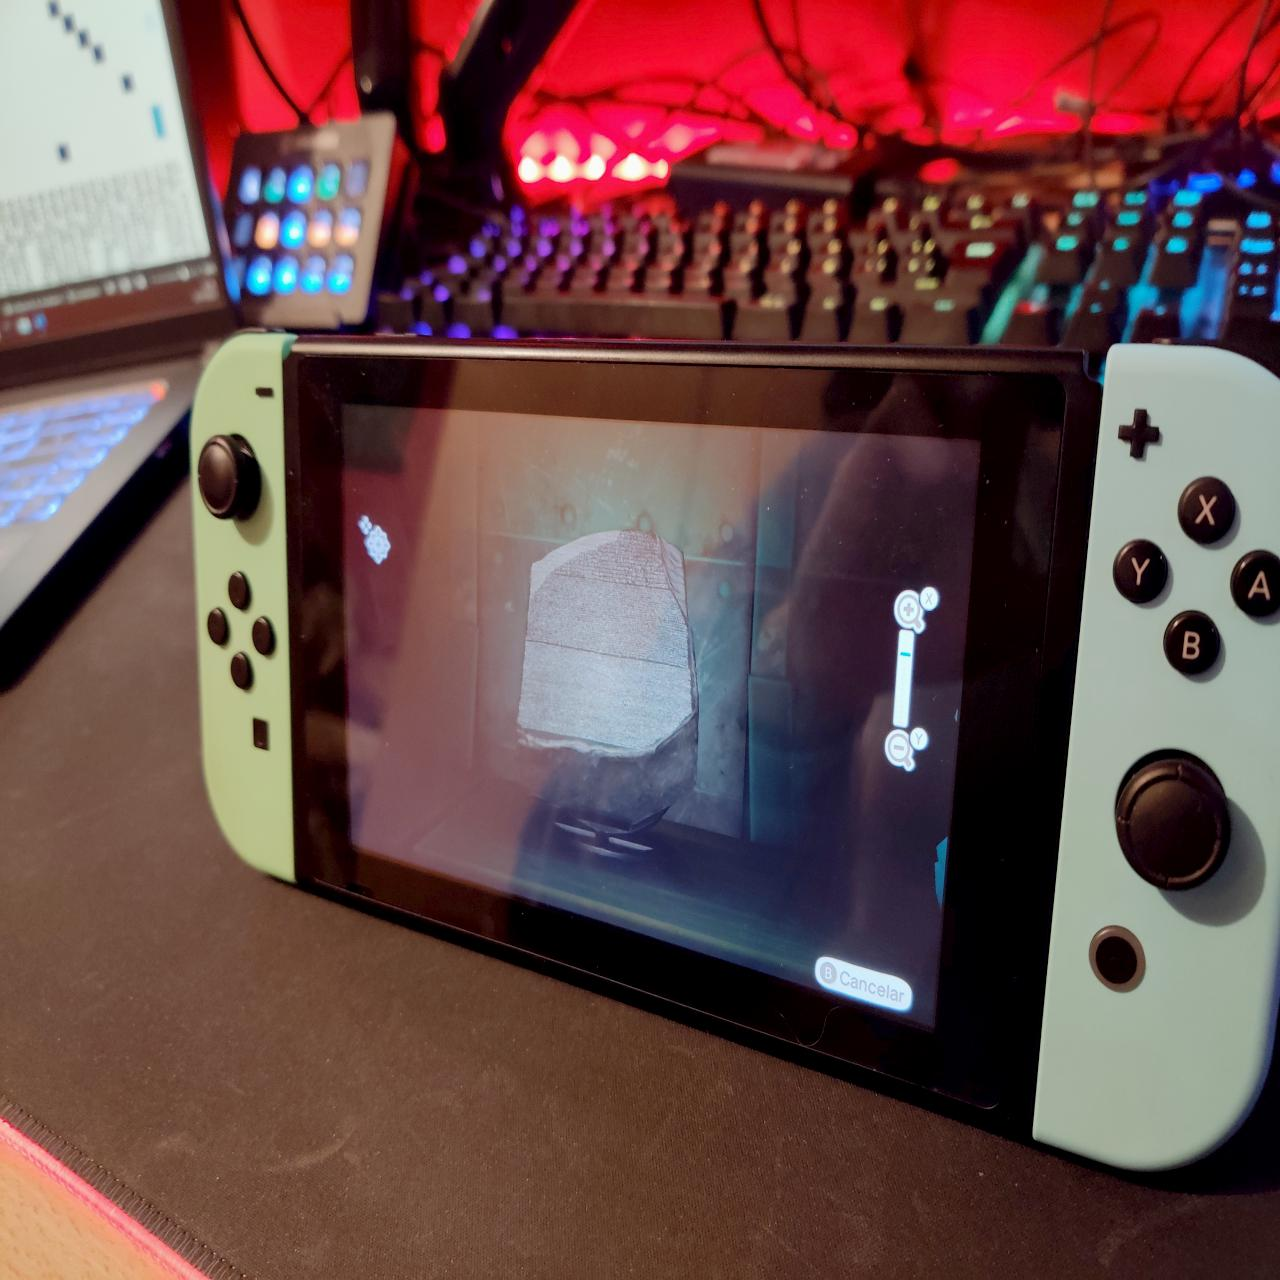RosettaStone: (520, 524, 701, 833)
